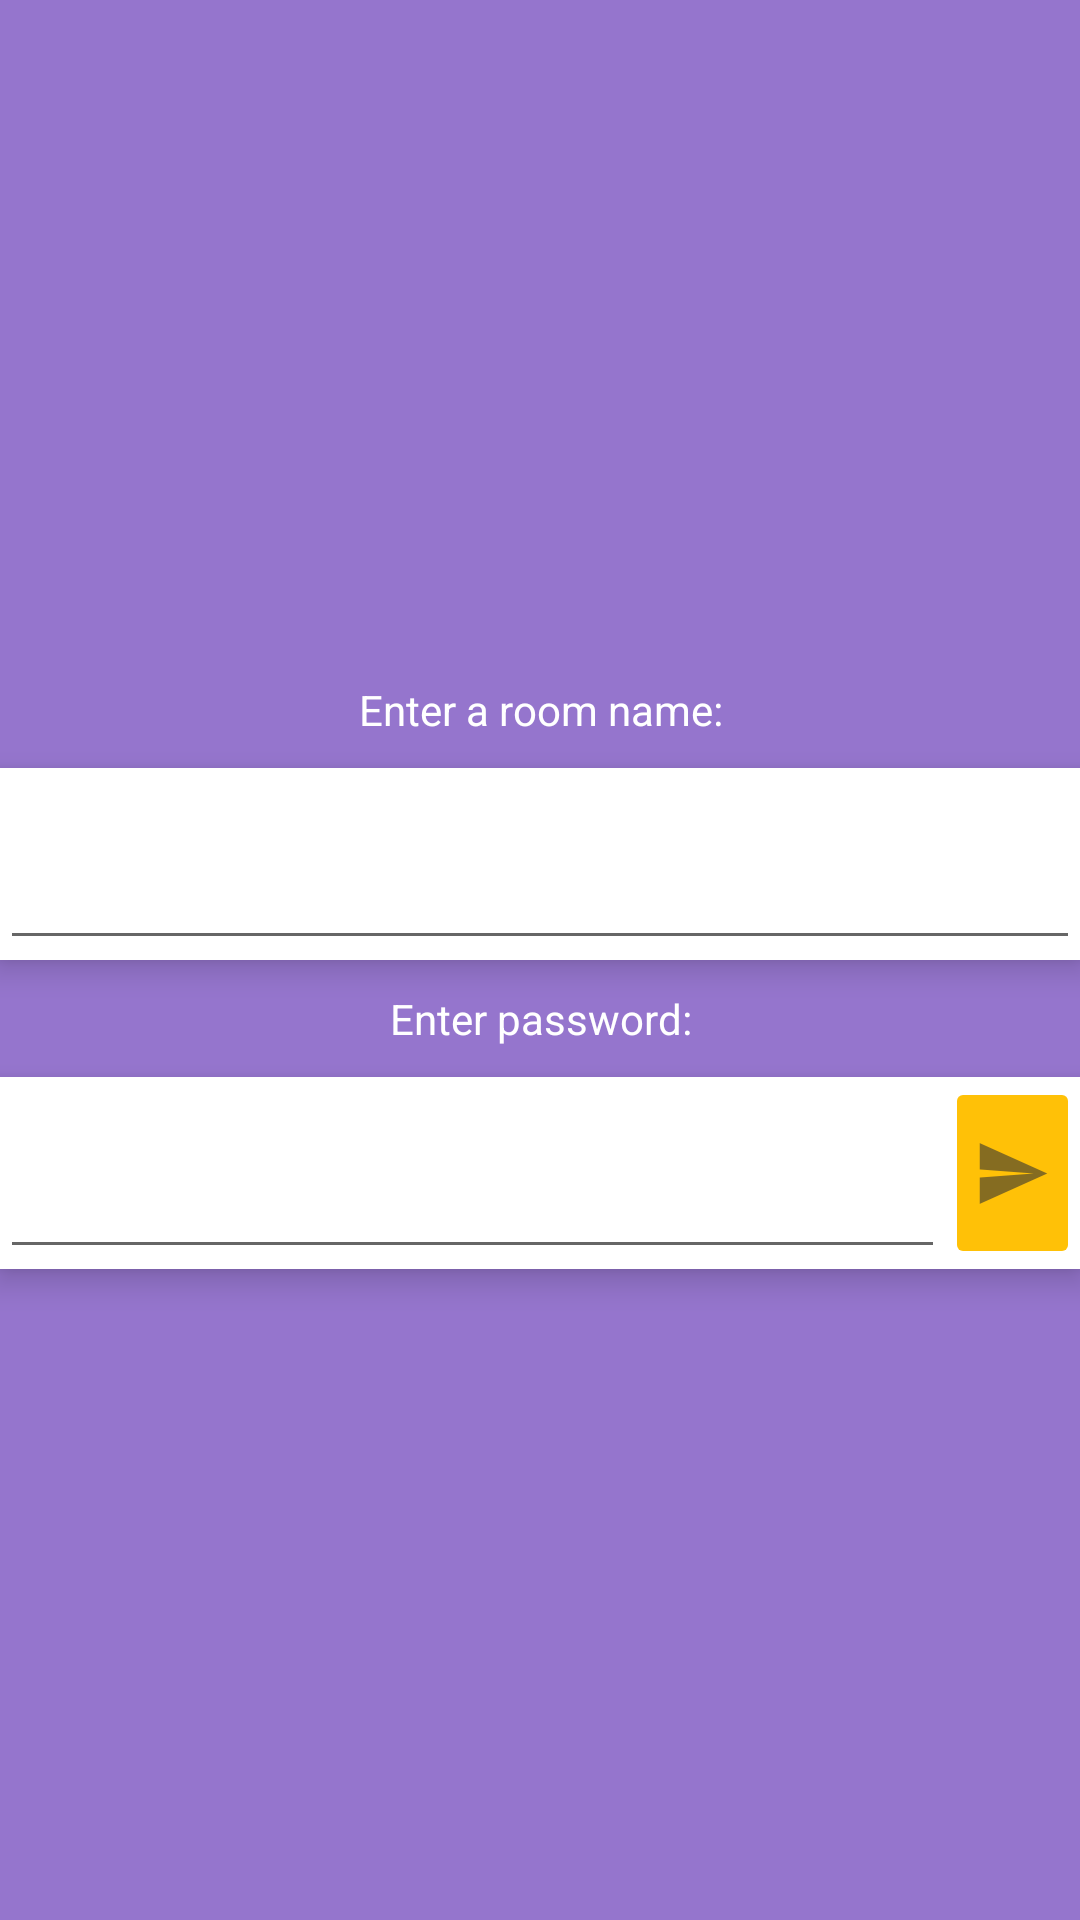

Icon click points for this 1080x1920 phone screenshot, format (x=x, y=y):
send message: (x=1012, y=1173)
